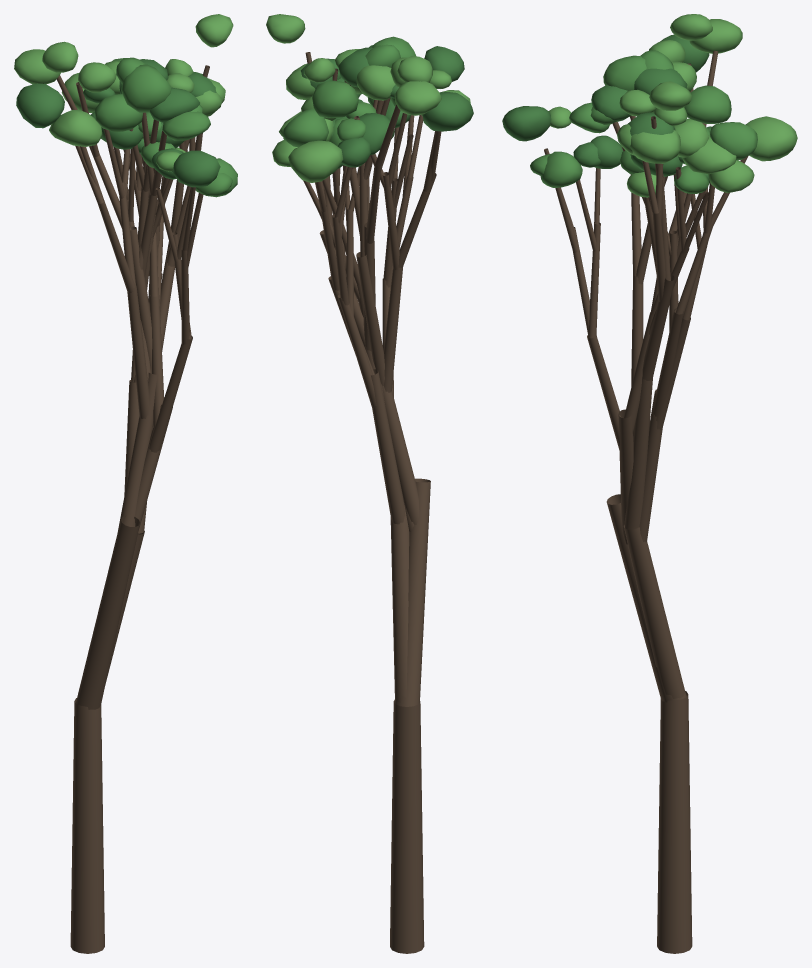
The model's file is tree_tall.glb.
3 renders of one model, left to right at view 1: azimuth 30°, elevation 25°; view 2: azimuth 150°, elevation 25°; view 3: azimuth 270°, elevation 25°, orthographic. The views are drawn at different scales.
Visible parts, largest first — view 1: tree_tall_Branches, tree_tall_Canopy1, tree_tall_Canopy2, tree_tall_Canopy0; view 2: tree_tall_Branches, tree_tall_Canopy1, tree_tall_Canopy2, tree_tall_Canopy0; view 3: tree_tall_Branches, tree_tall_Canopy1, tree_tall_Canopy0, tree_tall_Canopy2.
Boxes of the visible parts, x1,y1,x2,y2 form: tree_tall_Branches: (56, 65, 209, 953); tree_tall_Canopy1: (14, 14, 233, 171); tree_tall_Canopy2: (16, 59, 220, 187); tree_tall_Canopy0: (95, 57, 237, 197); tree_tall_Branches: (303, 52, 441, 953); tree_tall_Canopy1: (266, 14, 470, 182); tree_tall_Canopy2: (300, 45, 473, 168); tree_tall_Canopy0: (283, 36, 415, 146); tree_tall_Branches: (544, 50, 748, 953); tree_tall_Canopy1: (548, 14, 797, 197); tree_tall_Canopy0: (530, 50, 757, 193); tree_tall_Canopy2: (502, 34, 711, 183).
Bounding box in the file's own units: 1.48 × 6.23 × 1.81.
